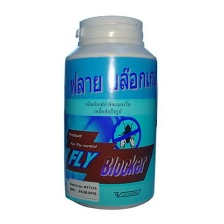insecticide: (58, 12, 161, 213)
